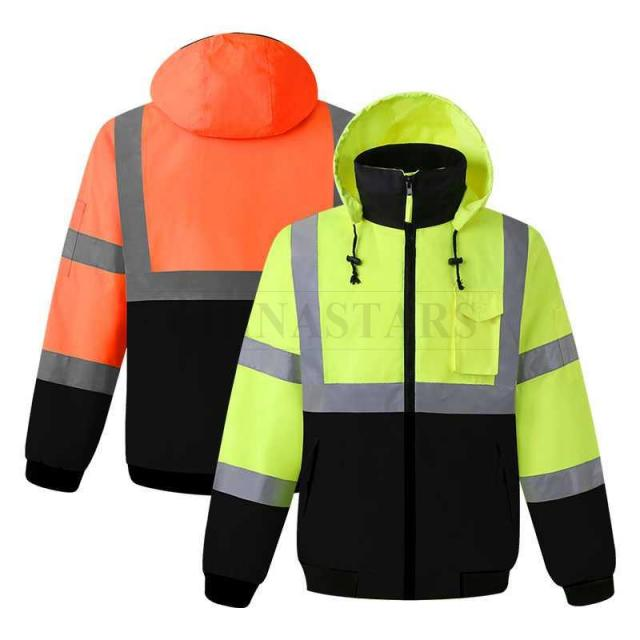Reflective-Jacket: (174, 202, 636, 614)
